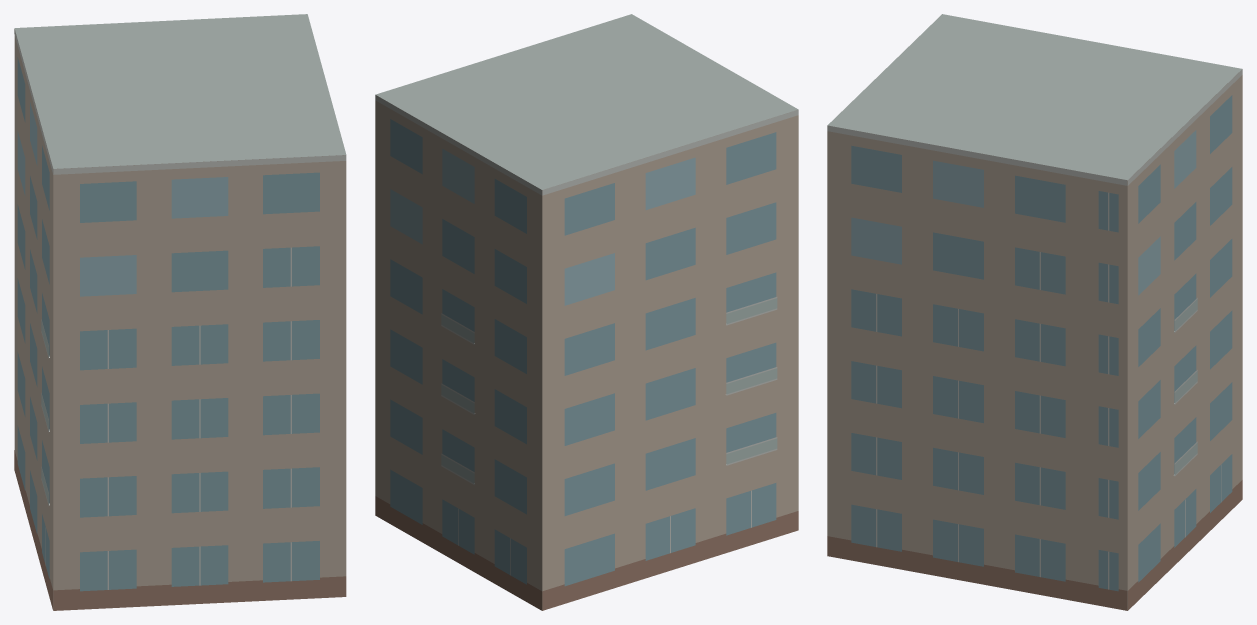
Rendered from survey-upis-33040031.glb.
The picture shows the model from 3 angles, left to right: view 1: azimuth 30°, elevation 25°; view 2: azimuth 150°, elevation 25°; view 3: azimuth 270°, elevation 25°; orthographic projection. The views are drawn at different scales.
Parts seen in each view (by area): view 1: survey-upis-33040031.tmp; view 2: survey-upis-33040031.tmp; view 3: survey-upis-33040031.tmp.
Part boxes in pixels (bbox=[...]): survey-upis-33040031.tmp: bbox=[14, 14, 346, 610]; survey-upis-33040031.tmp: bbox=[375, 14, 798, 610]; survey-upis-33040031.tmp: bbox=[827, 14, 1242, 610].
Size of the model in its own units: 15.16 by 18.3 by 16.
